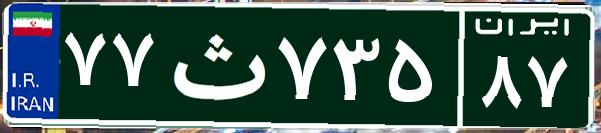3: (330, 28, 385, 110)
5: (385, 28, 445, 110)
7: (273, 28, 330, 110), (57, 26, 110, 107), (110, 28, 158, 105), (525, 38, 570, 115)
8: (475, 38, 525, 113)
ث: (158, 15, 273, 115)
